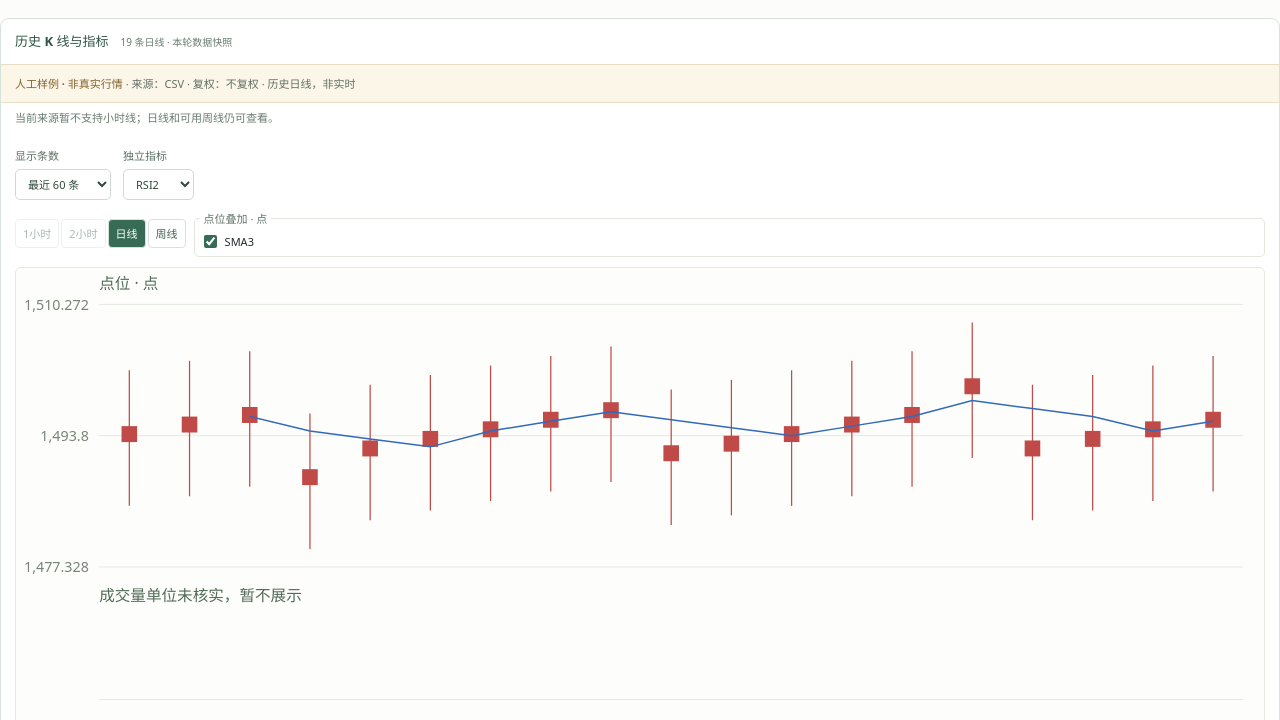
Test: 独立指数研究 › 周线切换显示未完周，小时能力保持关闭
Check: the button "1小时" is disabled, box 15,219 -> 59,248
Check: the button "2小时" is disabled, box 61,219 -> 106,248
Click the button "周线" at (167, 233), box 148,219 -> 186,248
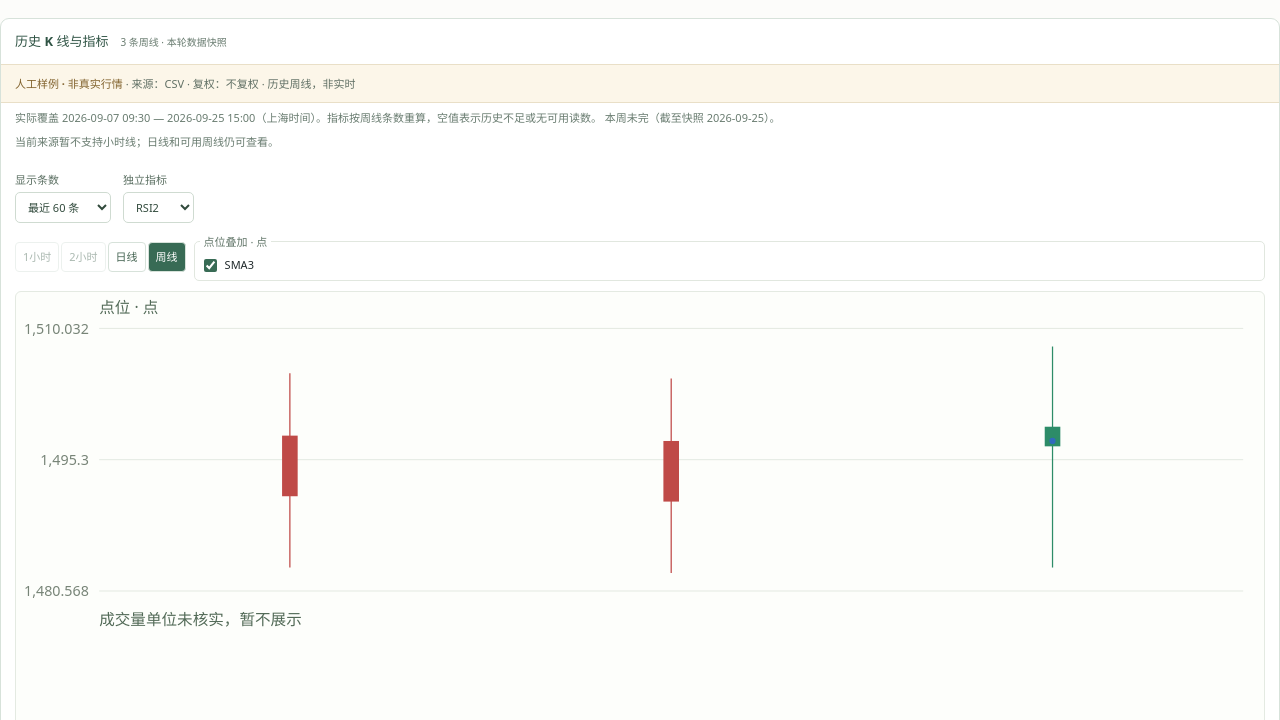
Check: the text "本周未完" is shown, box 602,110 -> 780,125
